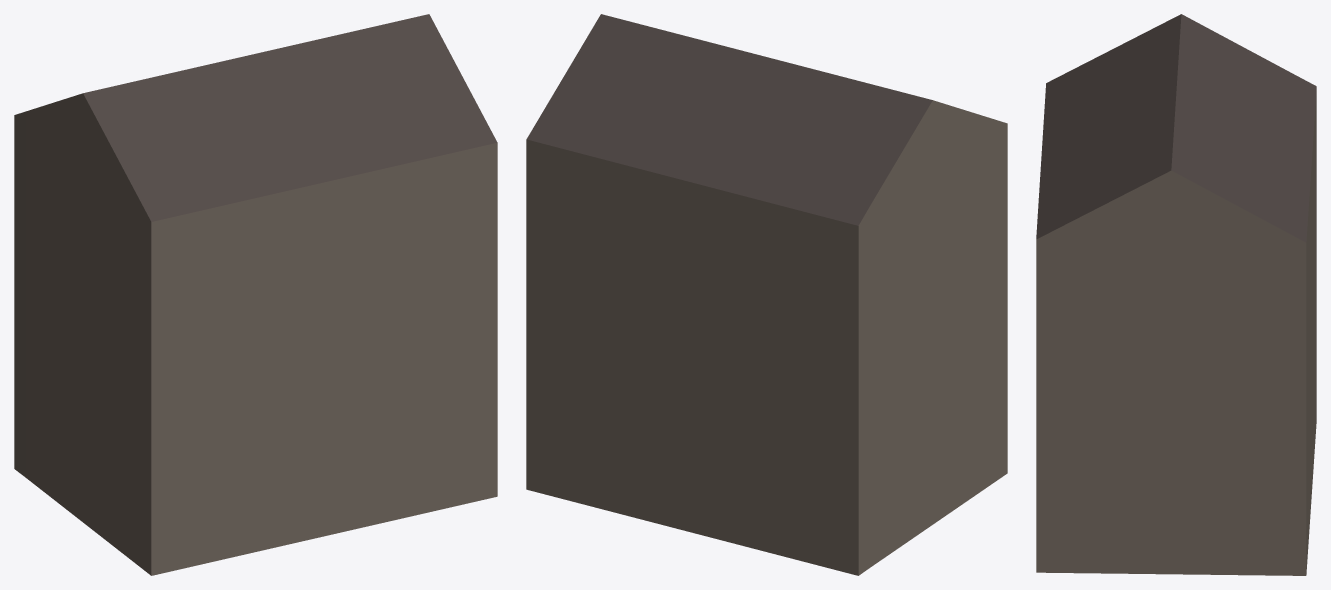
3 views of the same model, side by side, from view 1: azimuth 30°, elevation 25°; view 2: azimuth 150°, elevation 25°; view 3: azimuth 270°, elevation 25° (orthographic). The views are drawn at different scales.
Visible parts, largest first — view 1: HP-w1424106482; view 2: HP-w1424106482; view 3: HP-w1424106482.
Part boxes in pixels (bbox=[...]): HP-w1424106482: bbox=[14, 14, 497, 575]; HP-w1424106482: bbox=[526, 14, 1007, 575]; HP-w1424106482: bbox=[1036, 14, 1316, 575].
Bounding box in the file's own units: 9.26 × 10.91 × 6.87.
